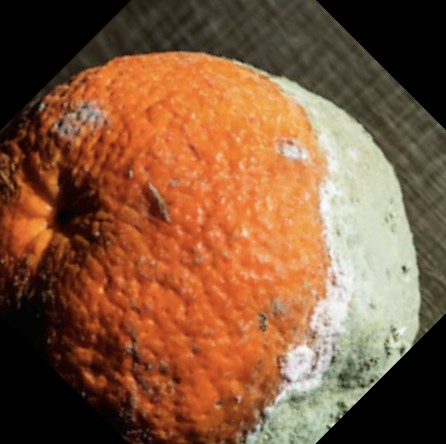rotten_orange: (6, 53, 421, 444)
